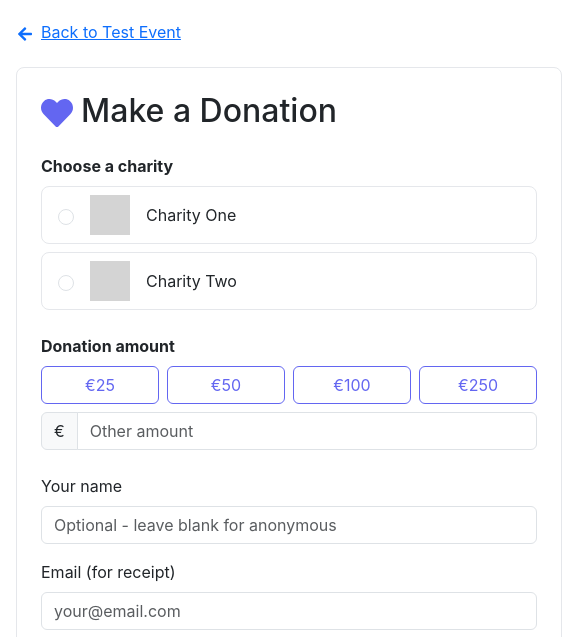
DonationForm › validates amount is required
// Select a charity but no amount
Click the text "Charity One": [191, 215] box [146,203,236,227]
(page scrolled)
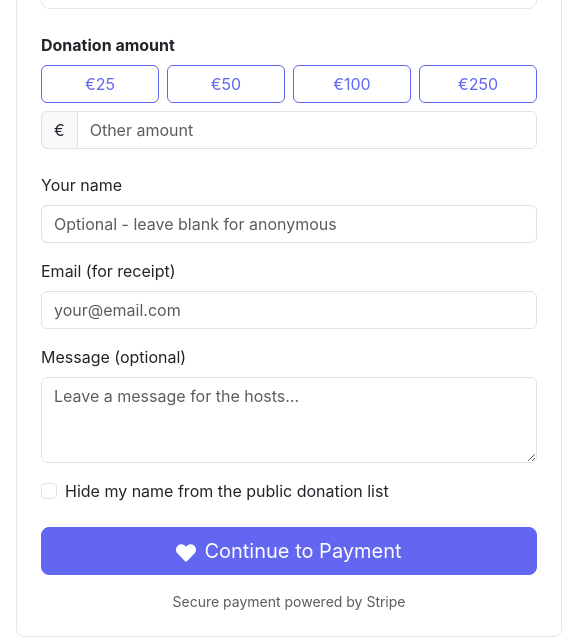
// Submit without selecting amount
Click the button "Continue to Payment": [289, 551] box [41,527,537,575]
(page scrolled)
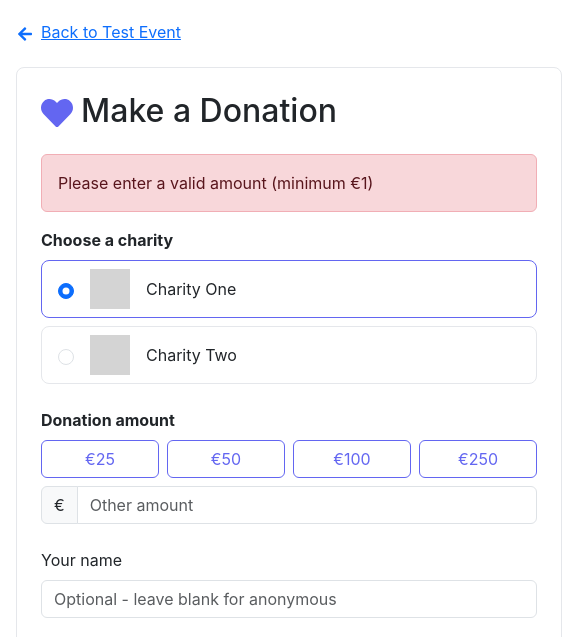
Expected: the text "Please enter a valid amount (minimum €1)" is shown, [41,154,537,212]
